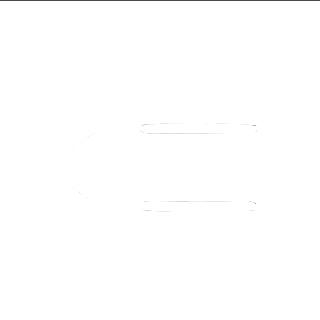bottle: (26, 112, 298, 220)
